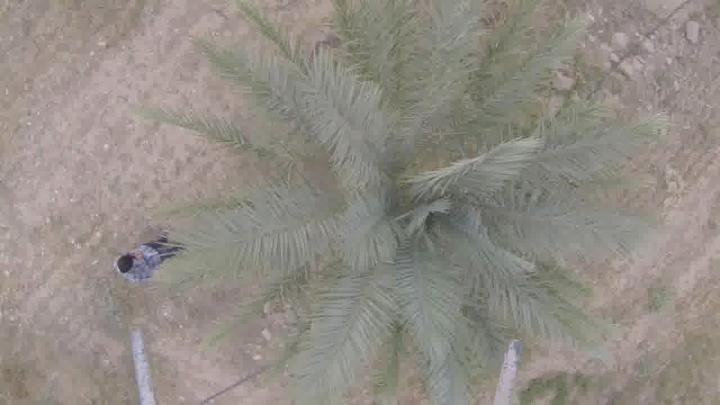Date-Palm-Crown: (258, 63, 552, 322)
